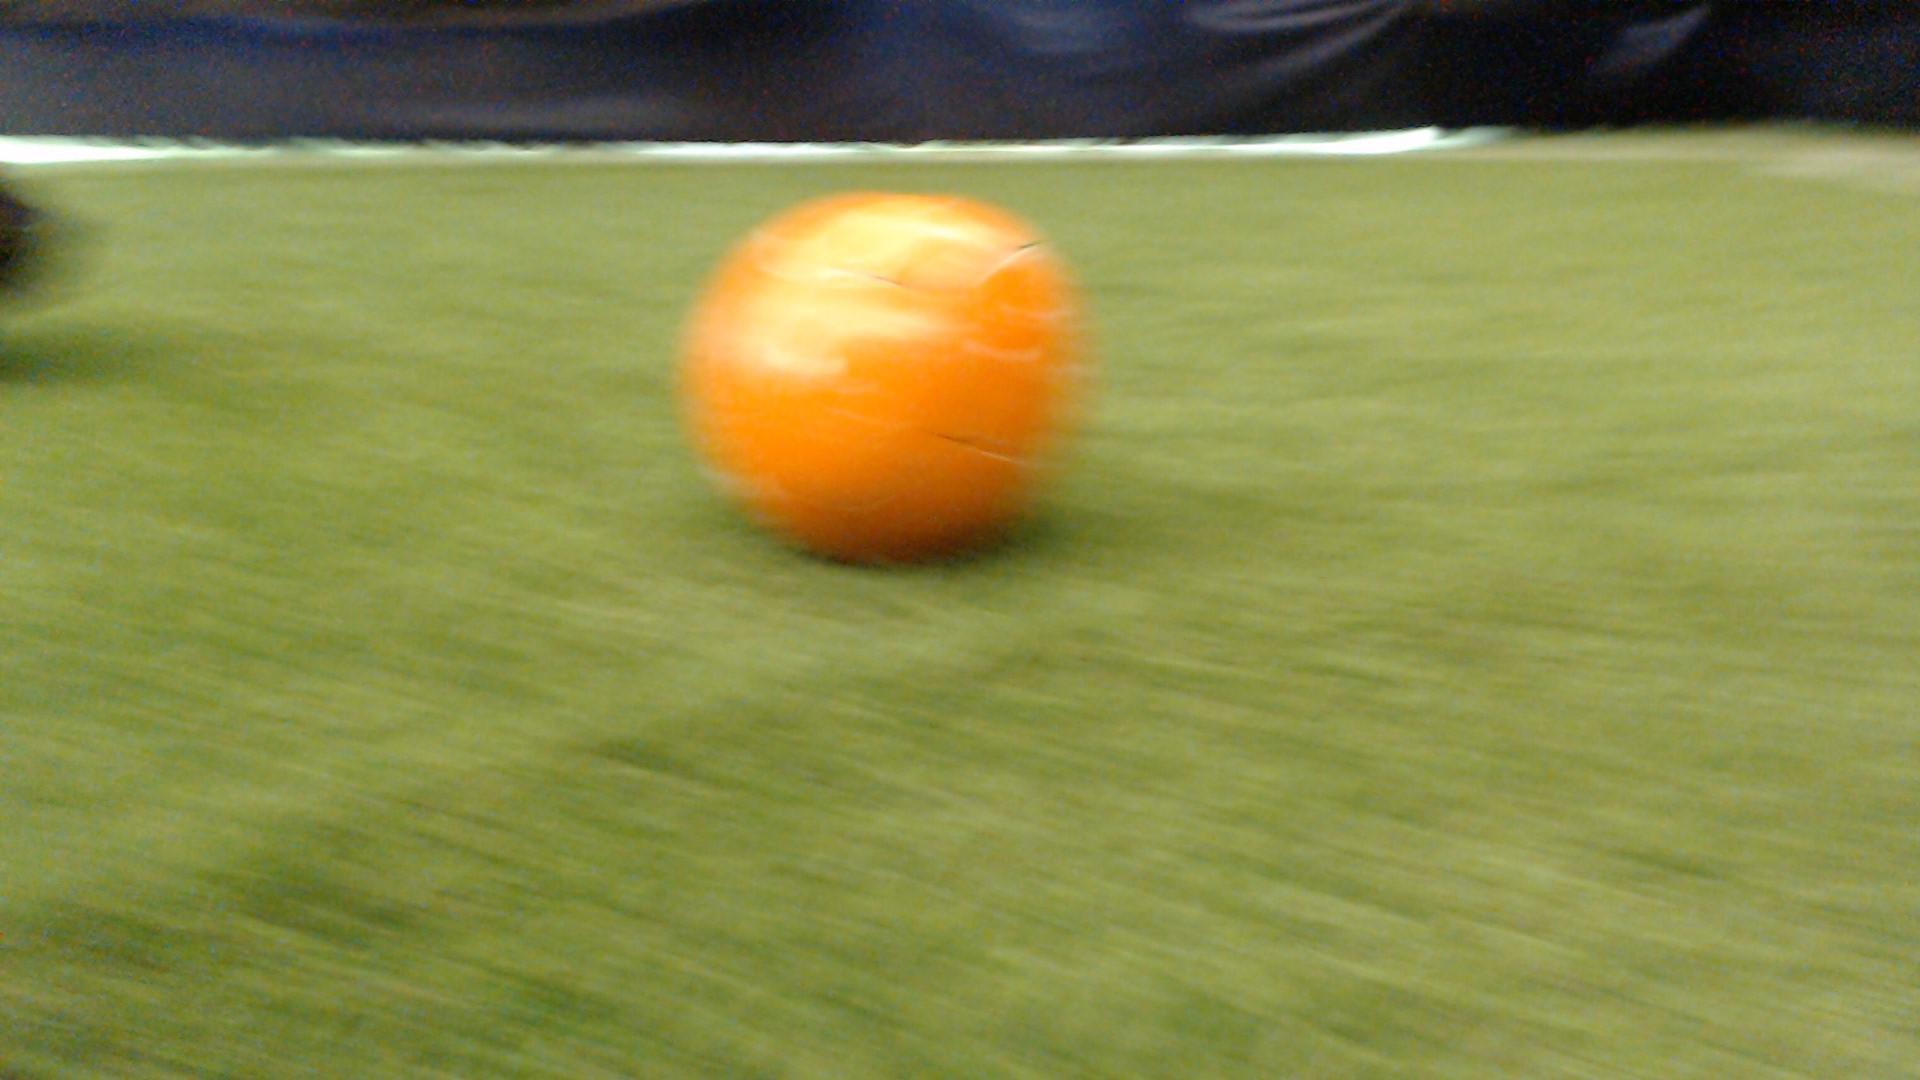bola: (658, 156, 1121, 587)
